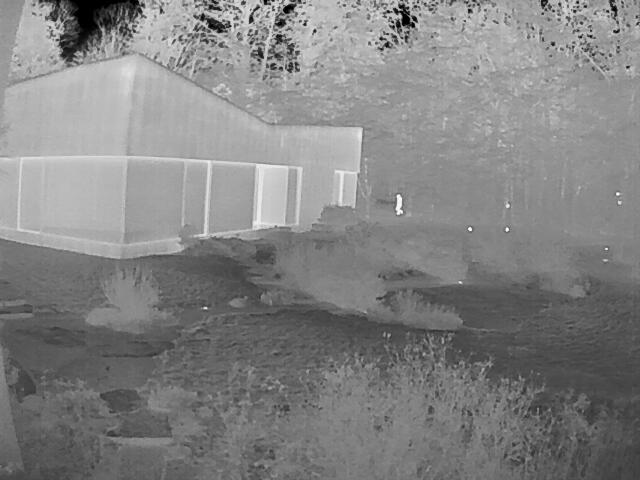person: (392, 194, 403, 215)
